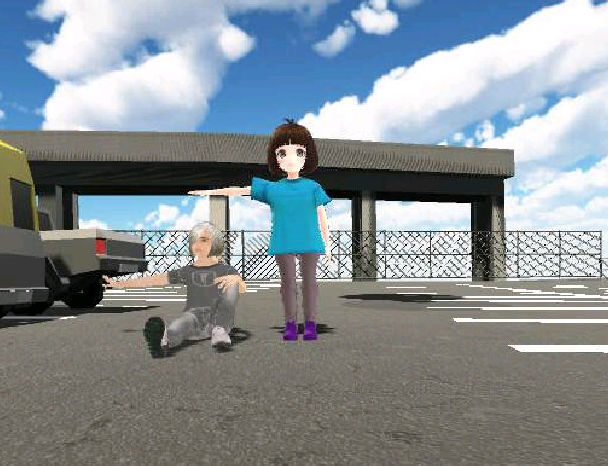doubleP_left: (96, 117, 347, 358)
